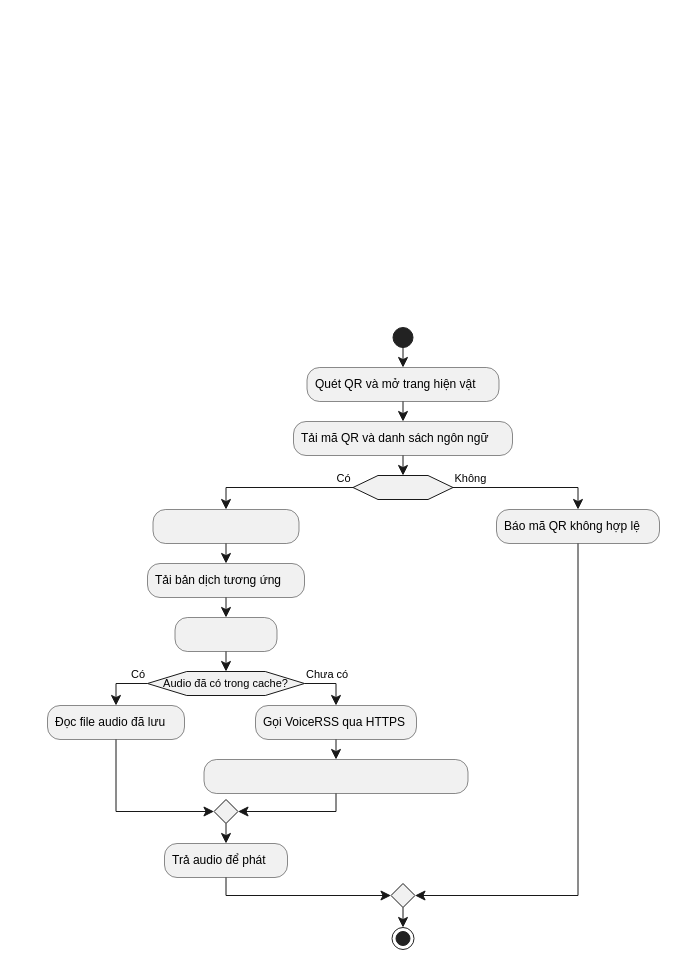
Image size: 677x967. Some labels were removed from this diagram. Each missing label, with the box of its shape:
Khách chọn ngôn ngữ: (152, 509, 299, 543)
Kiểm tra response và lưu MP3 + metadata: (203, 759, 468, 793)
Mã QR hợp lệ?: (352, 474, 453, 500)
Yêu cầu audio: (174, 617, 277, 651)
